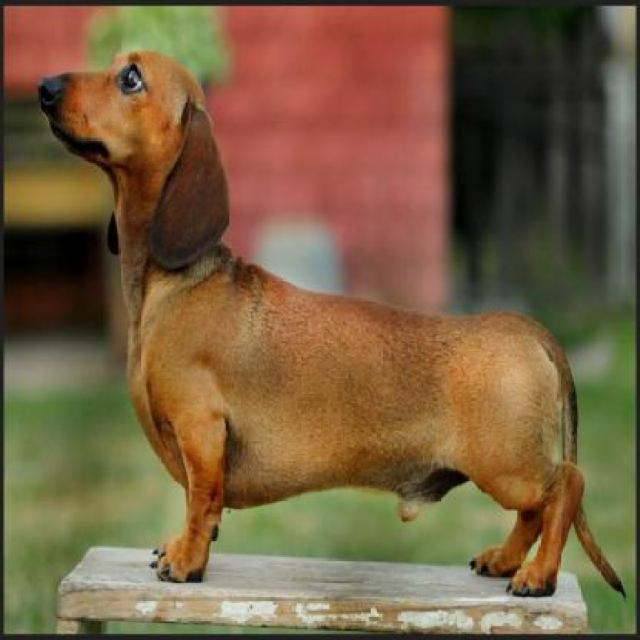Dog: (37, 48, 632, 612)
